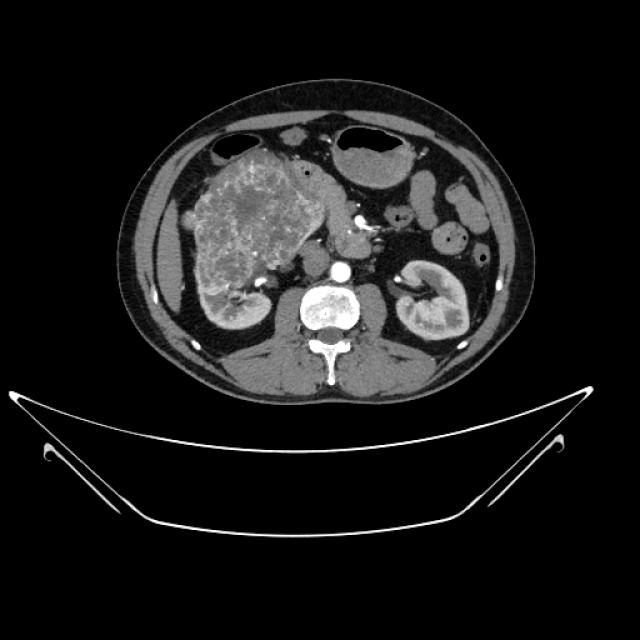Tumor: (202, 151, 326, 332)
